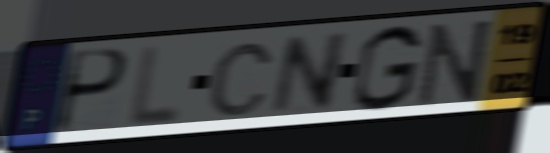C: (205, 40, 277, 119)
G: (349, 22, 425, 114)
L: (122, 42, 184, 132)
N: (267, 29, 352, 120), (415, 16, 496, 110)
P: (50, 46, 132, 137)
